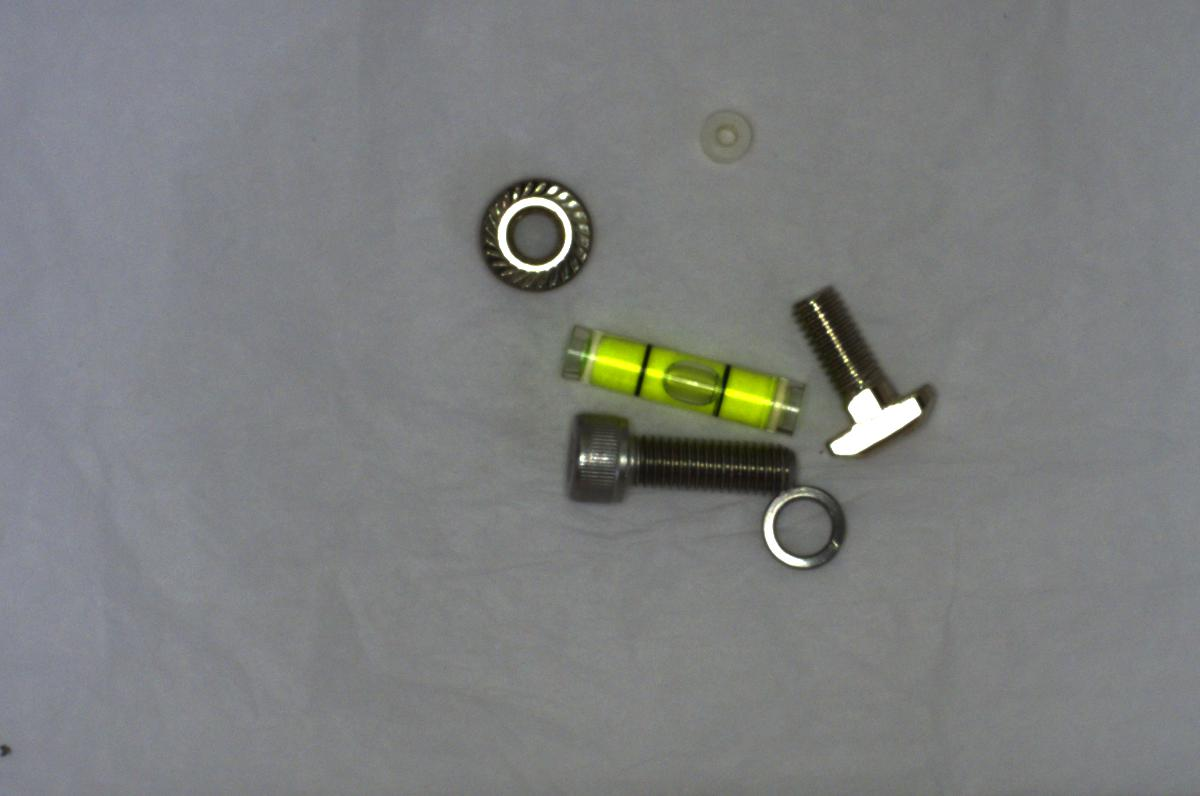Flange nut: (474, 169, 598, 299)
Hexagon screw: (553, 401, 798, 506)
Horizontal bubble: (551, 313, 806, 427)
Plastic cushion pillar: (692, 105, 757, 167)
Spring washer: (755, 481, 850, 577)
T-shaped screw: (798, 274, 946, 463)
